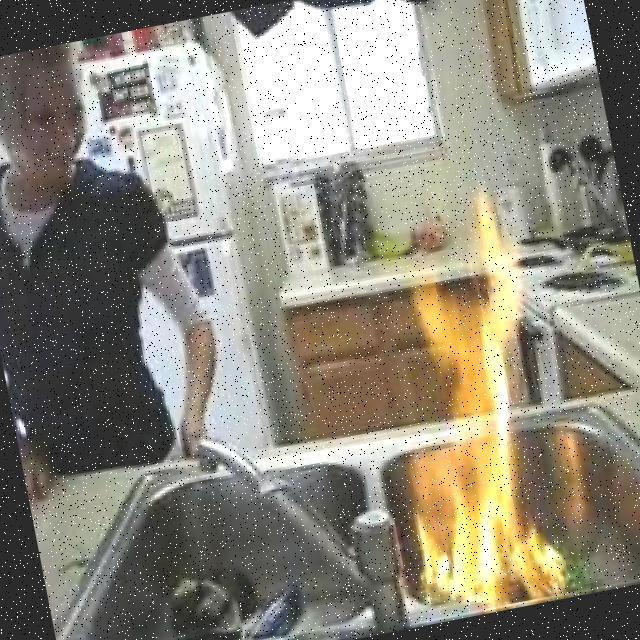Fire: (355, 186, 590, 620)
